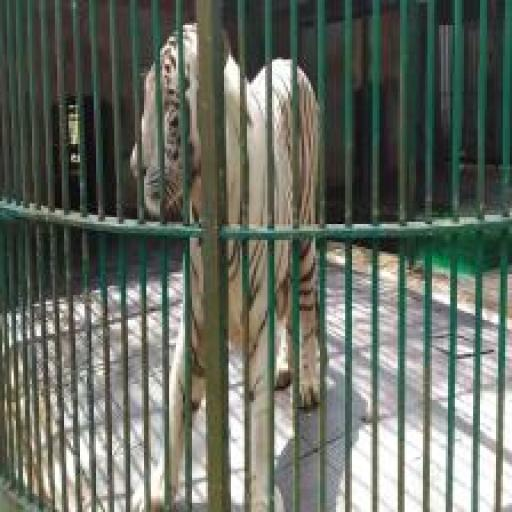Tiger: (130, 11, 329, 512)
